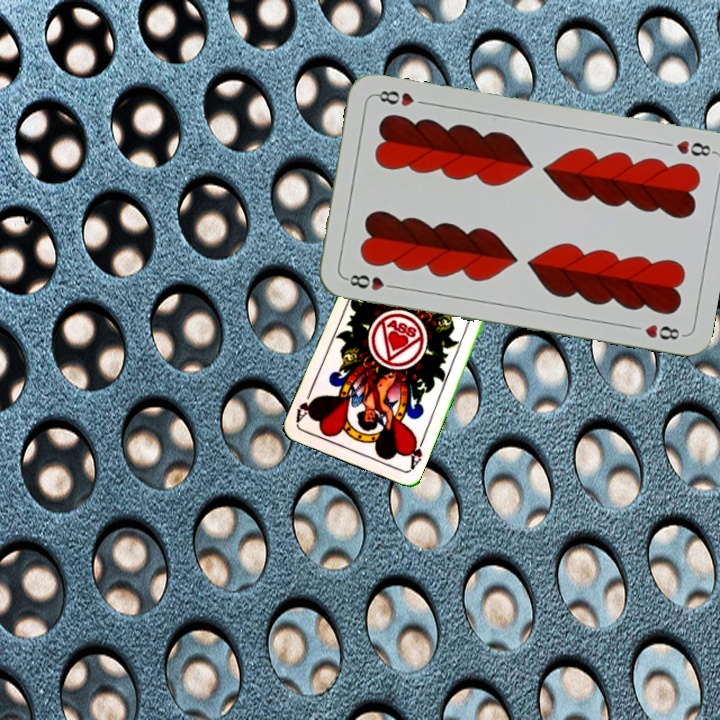H8: (341, 270, 400, 293), (658, 136, 717, 159)
HA: (404, 433, 427, 472)
